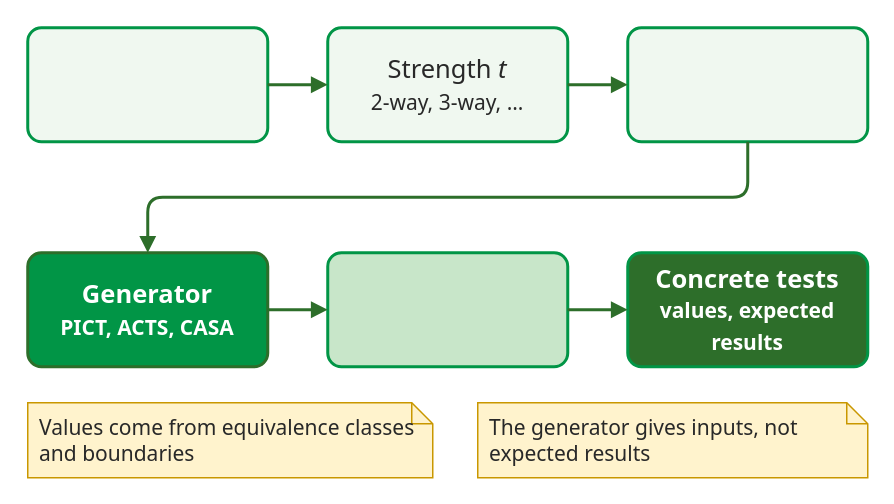
Image size: 894x504. Some labels were removed from this diagram. Here are the shapes that lost their labels. From the top down, the centre of each, then its label:
At pixel 147 84: "Input model parameters and their values".
At pixel 747 84: "Constraints invalid combinations".
At pixel 447 309: "Covering array one row = one test".
